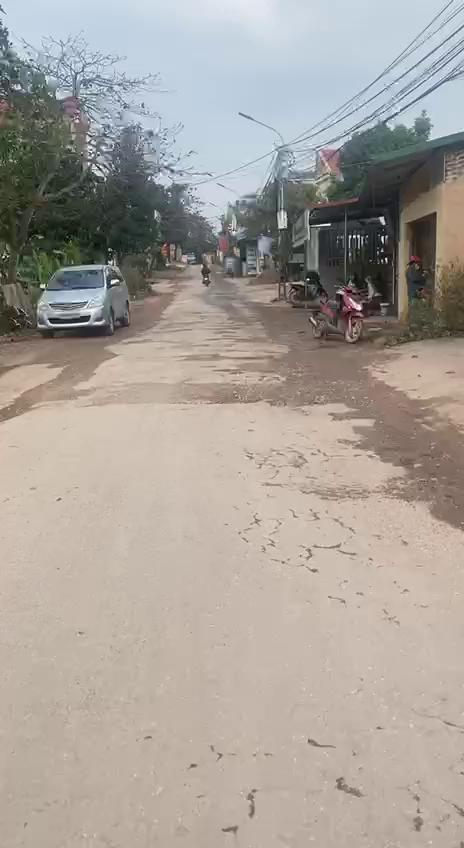pothole: (0, 350, 114, 424), (387, 468, 464, 534), (116, 382, 300, 405)
